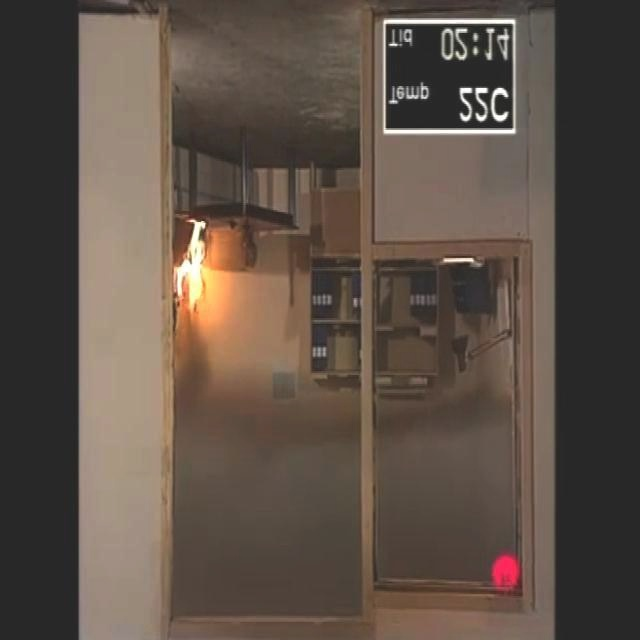fire: (170, 206, 244, 328)
